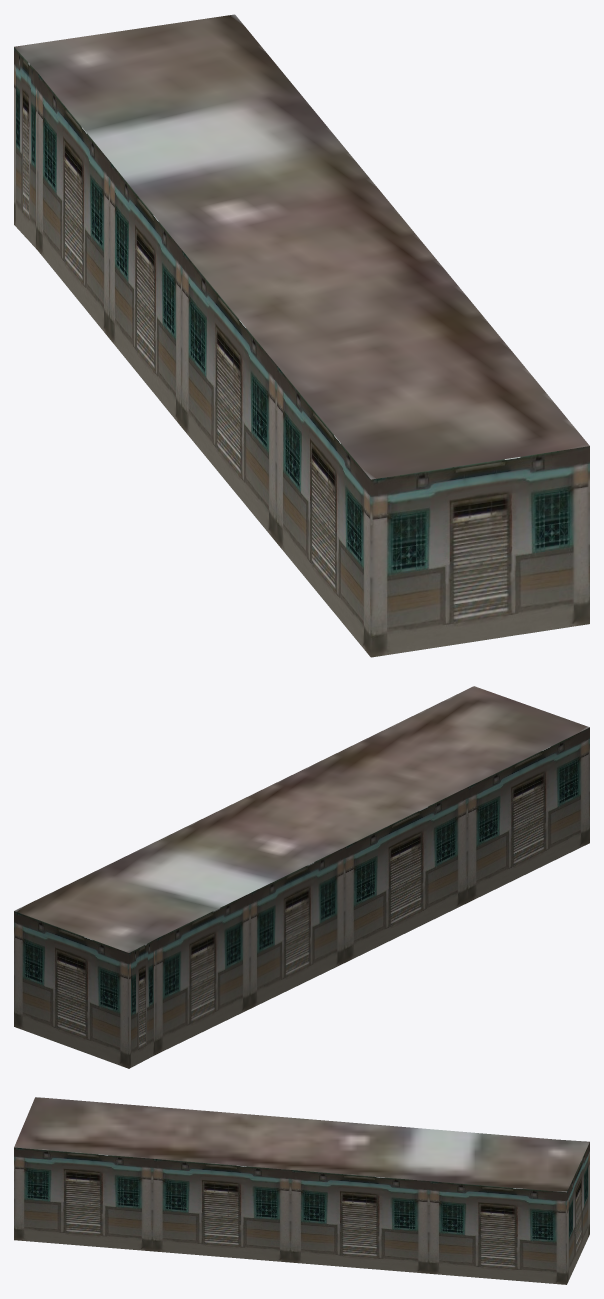
File: T_1T0NX4NVW8.dae
3 views of the same model, one above another, from view 1: azimuth 30°, elevation 25°; view 2: azimuth 150°, elevation 25°; view 3: azimuth 270°, elevation 25° (orthographic). The views are drawn at different scales.
Parts seen in each view (by area): view 1: SketchUp (×5); view 2: SketchUp (×5); view 3: SketchUp (×3).
Part boxes in pixels (<box>): SketchUp (×5): <box>14,14,589,657</box>; SketchUp (×5): <box>14,686,589,1068</box>; SketchUp (×3): <box>14,1097,589,1284</box>.
Bounding box in the file's own units: 8.64 × 22.08 × 3.92.
2 materials, 2 textured.
